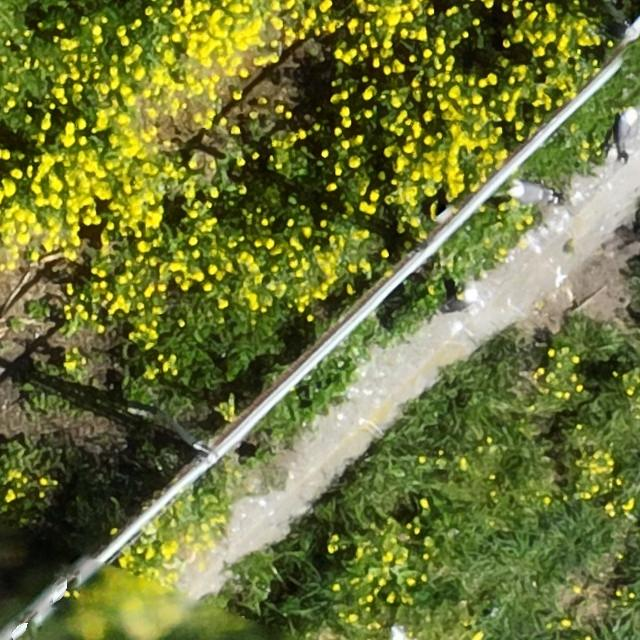umineko: (445, 290, 486, 312), (618, 112, 638, 150), (512, 184, 548, 204)
